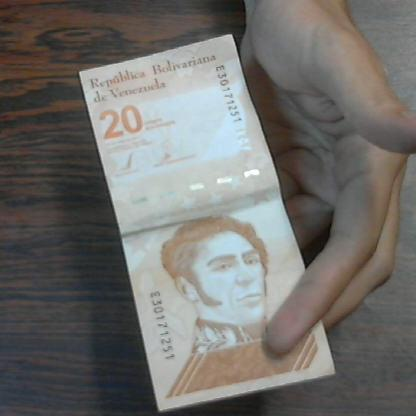twenty-front-vef: (49, 30, 408, 416)
